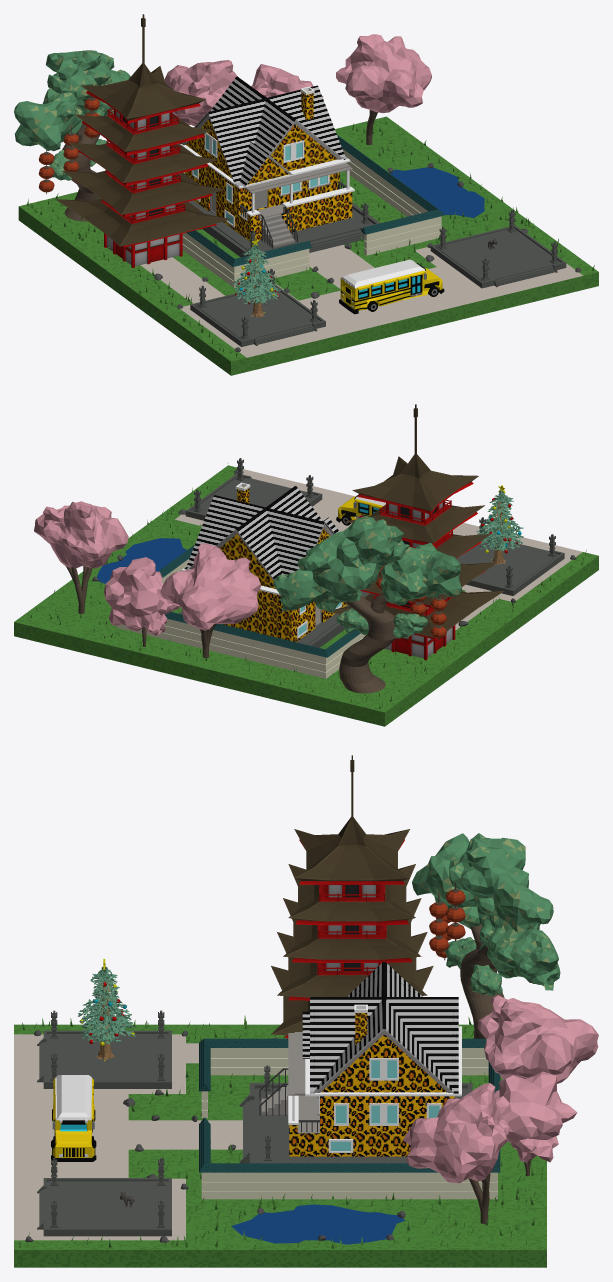
The picture shows the model from 3 angles, top to bottom: view 1: azimuth 30°, elevation 25°; view 2: azimuth 150°, elevation 25°; view 3: azimuth 270°, elevation 25°; orthographic projection. The views are drawn at different scales.
Parts seen in each view (by area): view 1: Cube.005, Cube.637, VEHICLES_SCHOOL_BUS, OBJRANDOM_CHRISTMAS_TREE; view 2: Cube.005, Cube.637, OBJRANDOM_CHRISTMAS_TREE, VEHICLES_SCHOOL_BUS; view 3: Cube.005, Cube.637, VEHICLES_SCHOOL_BUS, OBJRANDOM_CHRISTMAS_TREE.
Boxes of the visible parts, x1,y1,x2,y2 form: Cube.005: (14, 14, 598, 375); Cube.637: (179, 76, 354, 248); VEHICLES_SCHOOL_BUS: (339, 259, 444, 314); OBJRANDOM_CHRISTMAS_TREE: (231, 239, 280, 317); Cube.005: (14, 404, 598, 726); Cube.637: (181, 482, 347, 642); OBJRANDOM_CHRISTMAS_TREE: (476, 485, 523, 564); VEHICLES_SCHOOL_BUS: (336, 494, 385, 525); Cube.005: (14, 755, 598, 1267); Cube.637: (259, 961, 461, 1156); VEHICLES_SCHOOL_BUS: (51, 1075, 96, 1161); OBJRANDOM_CHRISTMAS_TREE: (78, 958, 135, 1061).
Size of the model in its own units: 4528 by 2640 by 4389.
Materials: 43 (7 with a texture image).
